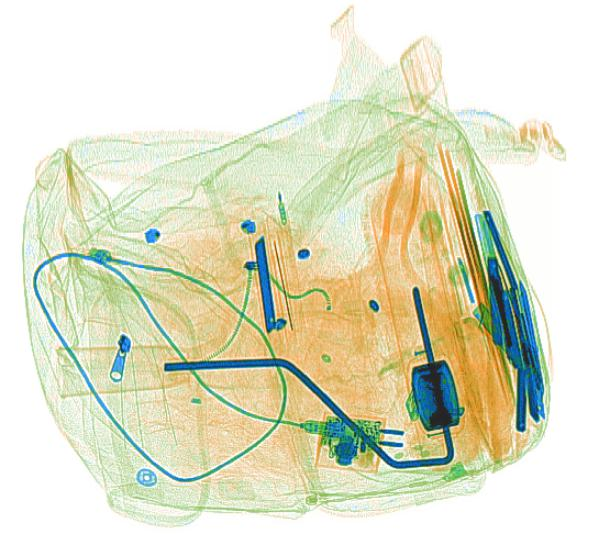knife: (481, 208, 519, 292), (253, 235, 276, 335)
